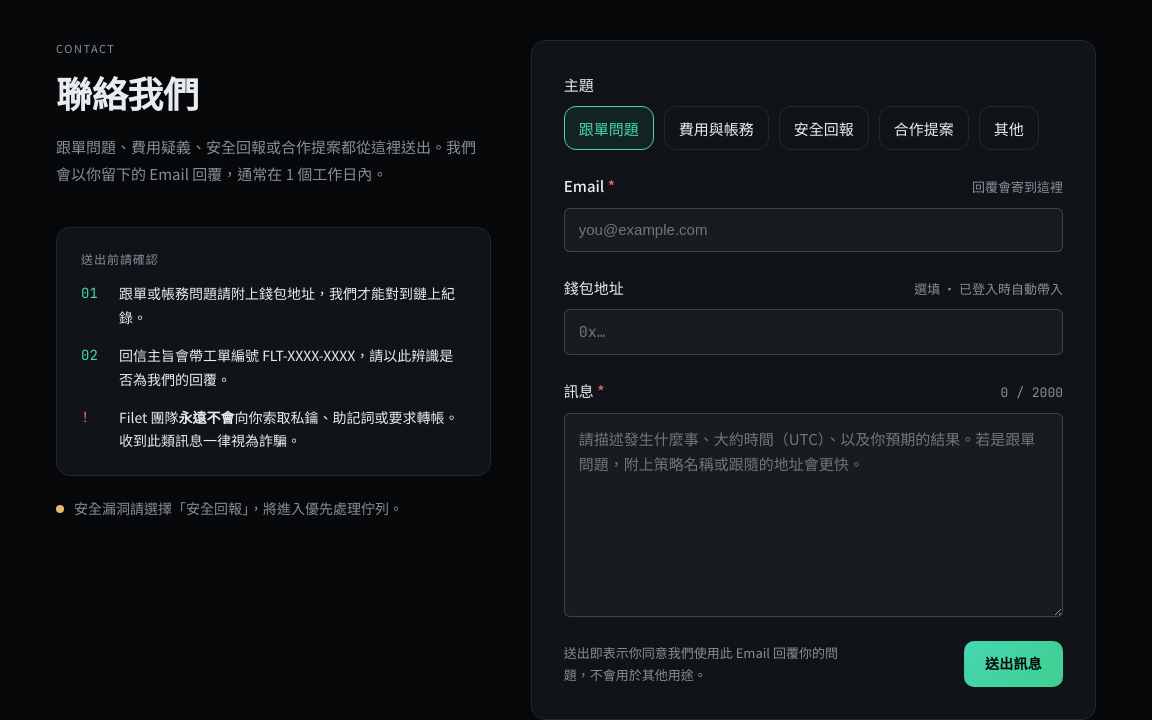
Test: /contact › 字數計數：輸入 12 字後顯示 12 / 2000
The image size is (1152, 720).
Step 1. Type "123456789012" into the text box labelled "訊息" → (813, 515), box [564,413,1063,617]
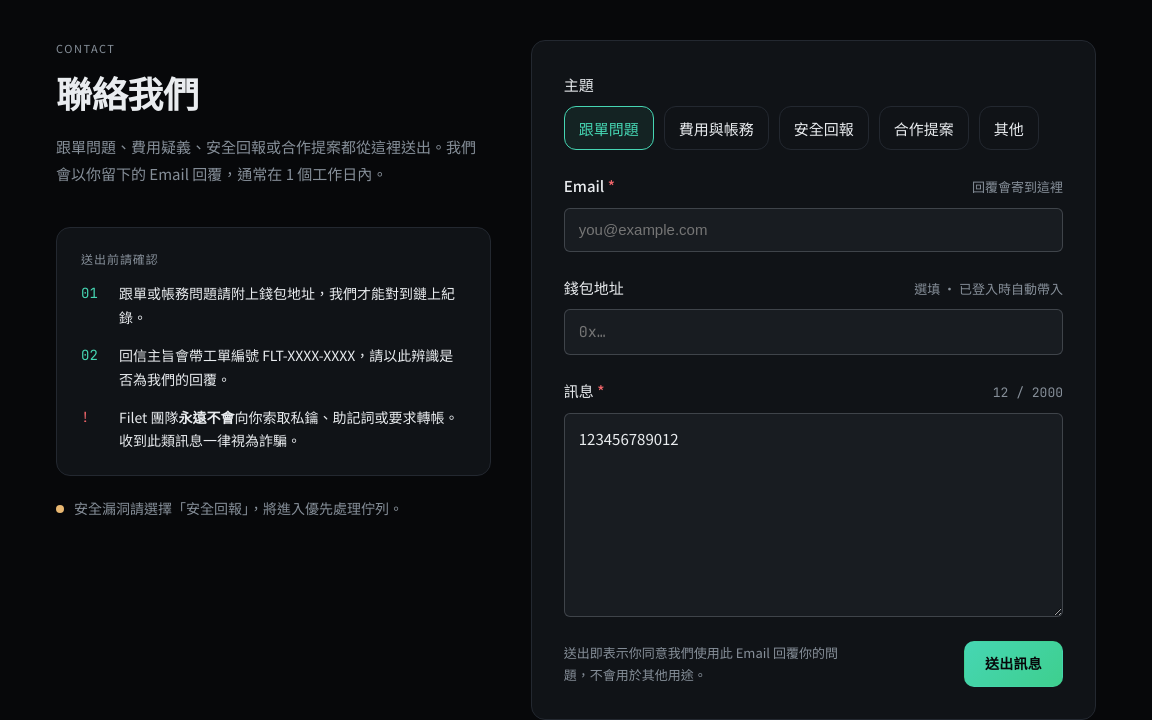
Expected: the text "12 / 2000" is shown, [993,383,1063,403]
